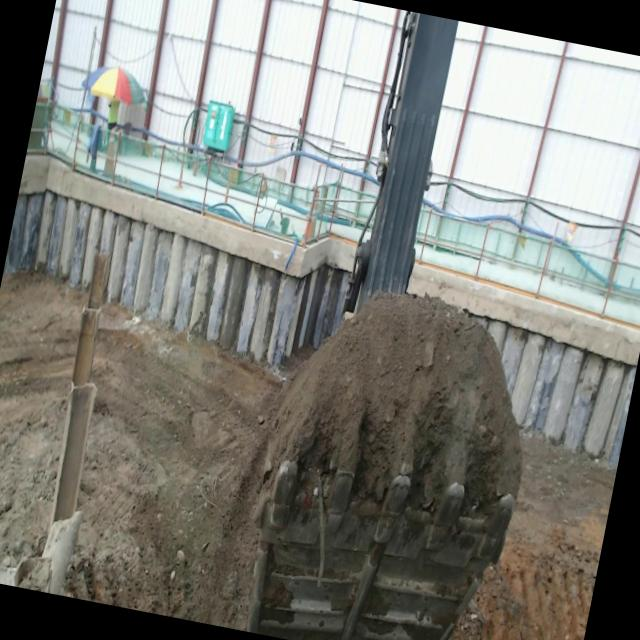cement: (18, 155, 292, 272), (409, 261, 640, 366), (287, 237, 355, 278)
red-sand: (62, 294, 616, 640), (0, 276, 86, 564)
